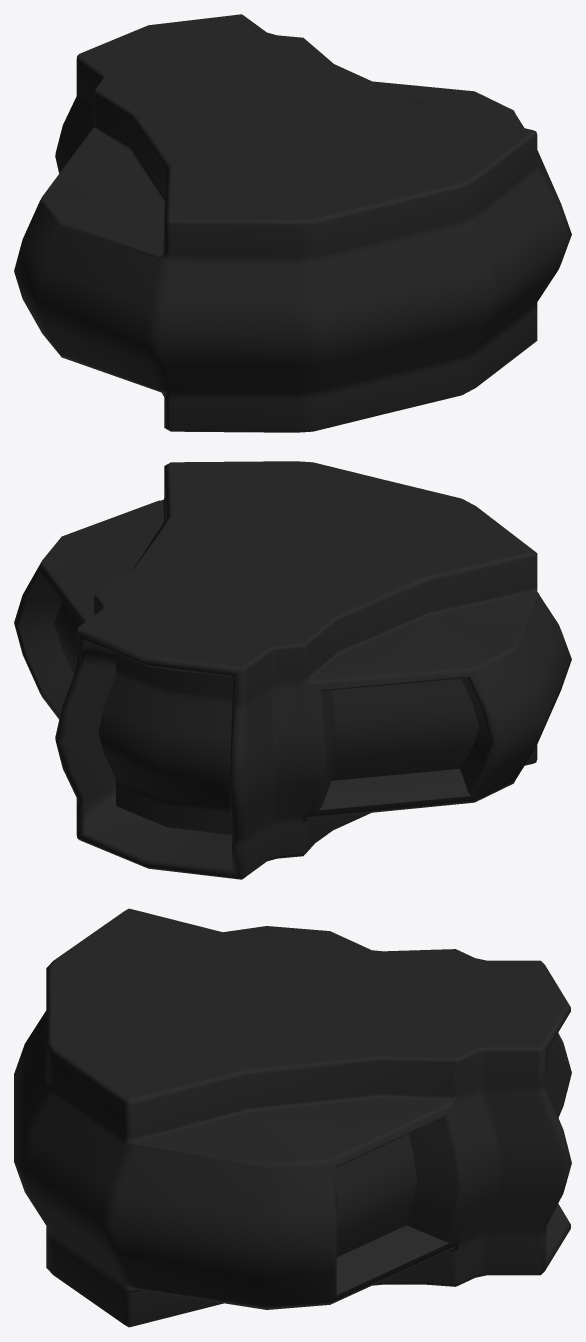
Rendered from Ship_Boos_01_Engine_02.fbx.
The picture shows the model from 3 angles, top to bottom: view 1: azimuth 30°, elevation 25°; view 2: azimuth 150°, elevation 25°; view 3: azimuth 270°, elevation 25°; orthographic projection. The views are drawn at different scales.
Visible parts, largest first — view 1: Ship_Boos_01_Engine_02; view 2: Ship_Boos_01_Engine_02; view 3: Ship_Boos_01_Engine_02.
Boxes of the visible parts, bbox=[...] form: Ship_Boos_01_Engine_02: bbox=[14, 14, 571, 432]; Ship_Boos_01_Engine_02: bbox=[14, 461, 571, 879]; Ship_Boos_01_Engine_02: bbox=[14, 908, 571, 1327].
Bounding box in the file's own units: 253 × 101 × 224.
